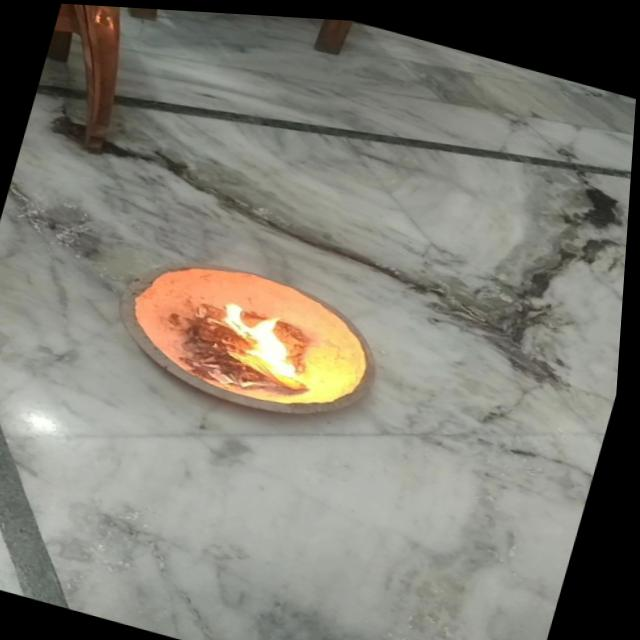fire: (198, 290, 324, 391)
